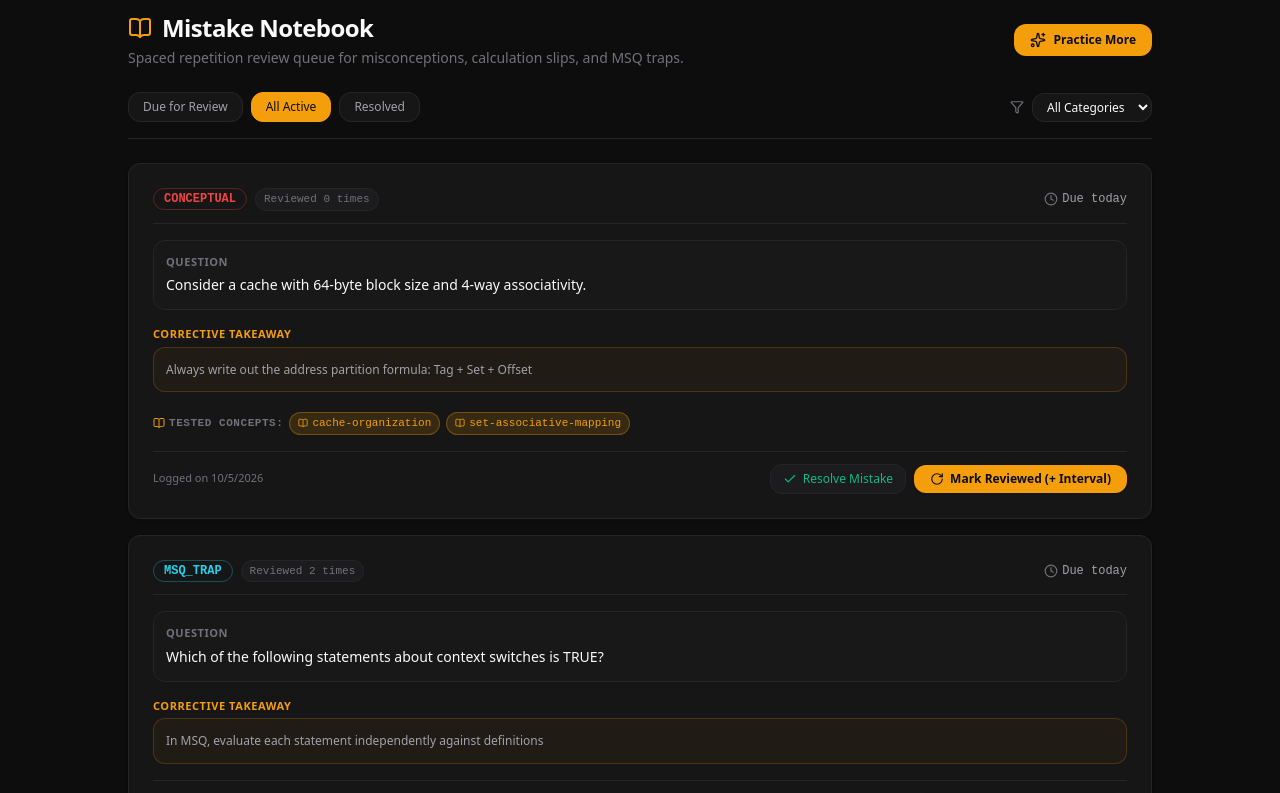
Test: MistakeNotebookPage › filters cards when category dropdown changes
Select "MSQ Trap" in the dropdown at coordinates (1092, 107), box [1032, 92, 1152, 122]
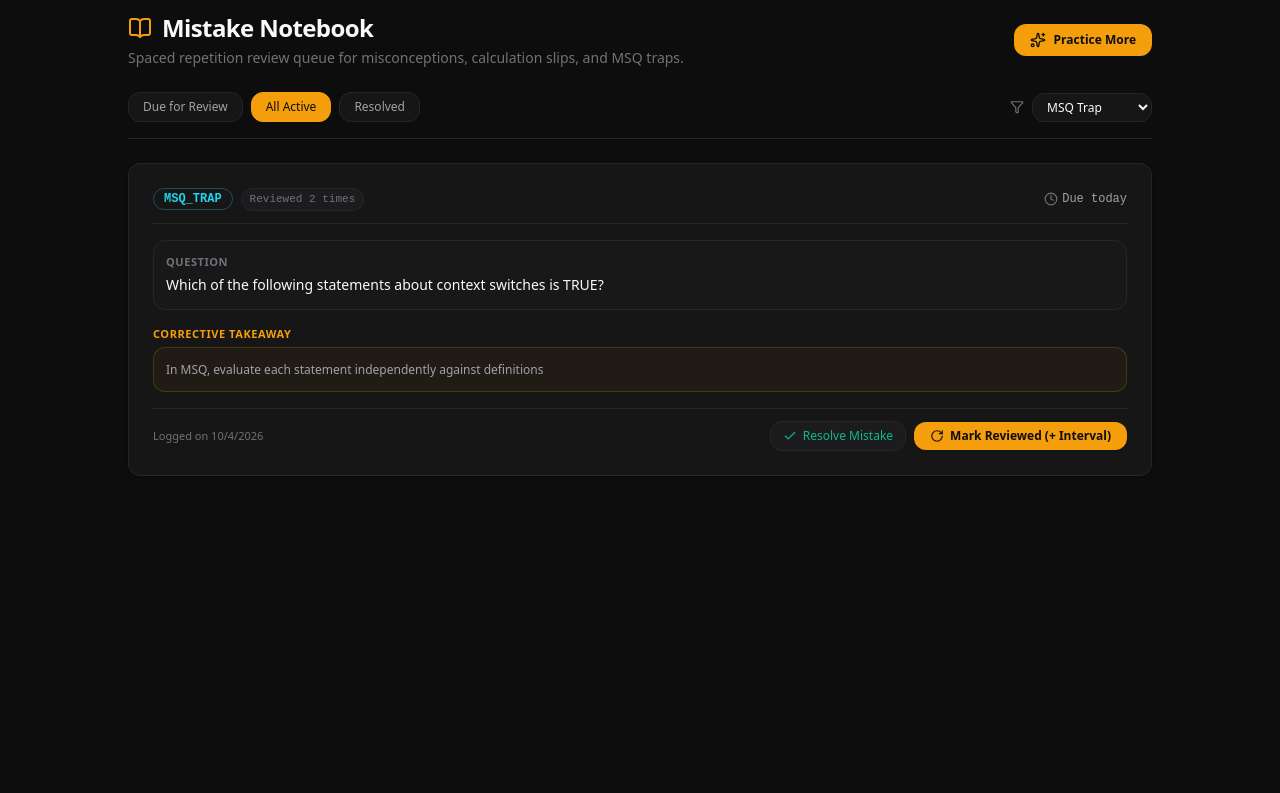
Check: the text "MSQ_TRAP" is shown, box [153, 188, 233, 210]
Check: the text "CONCEPTUAL" is gone
